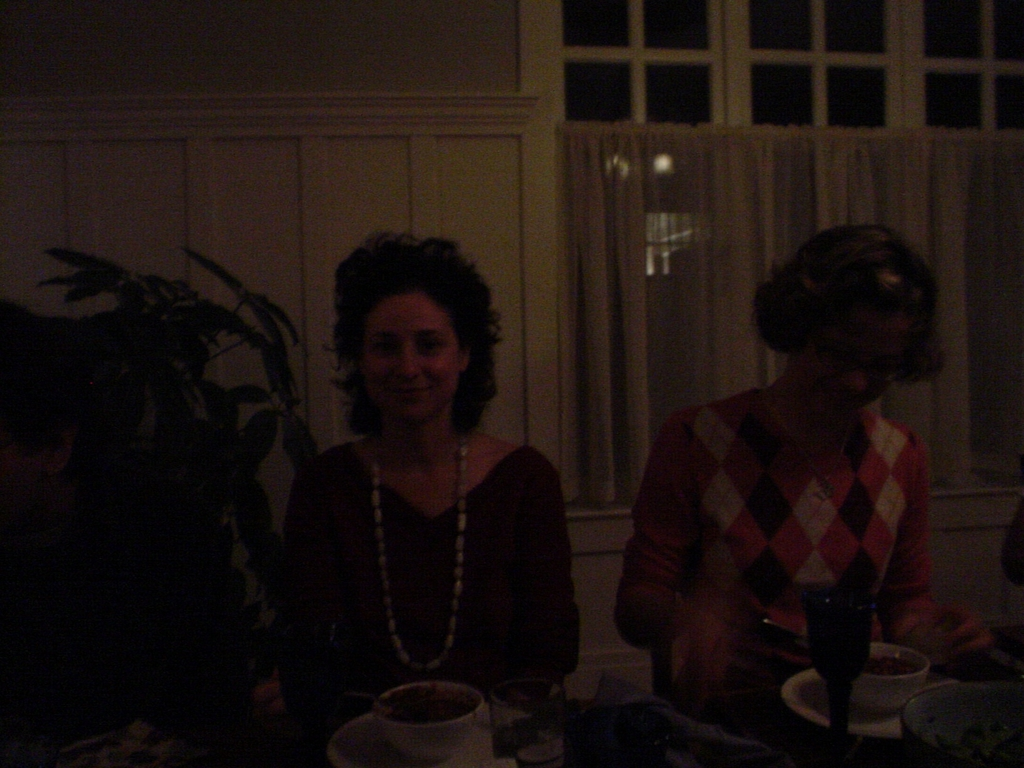Human_hand: (915, 600, 995, 678), (673, 611, 737, 707)
